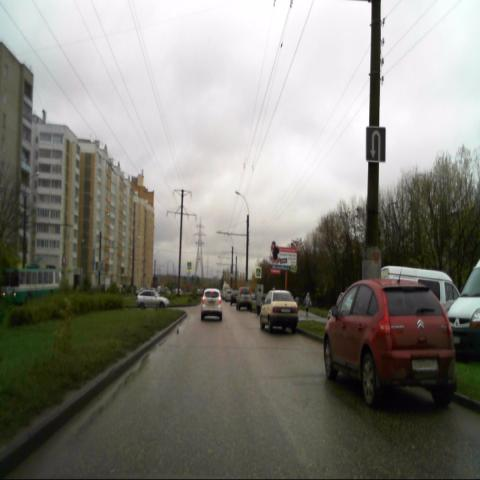6_3_1: (366, 125, 386, 164)
